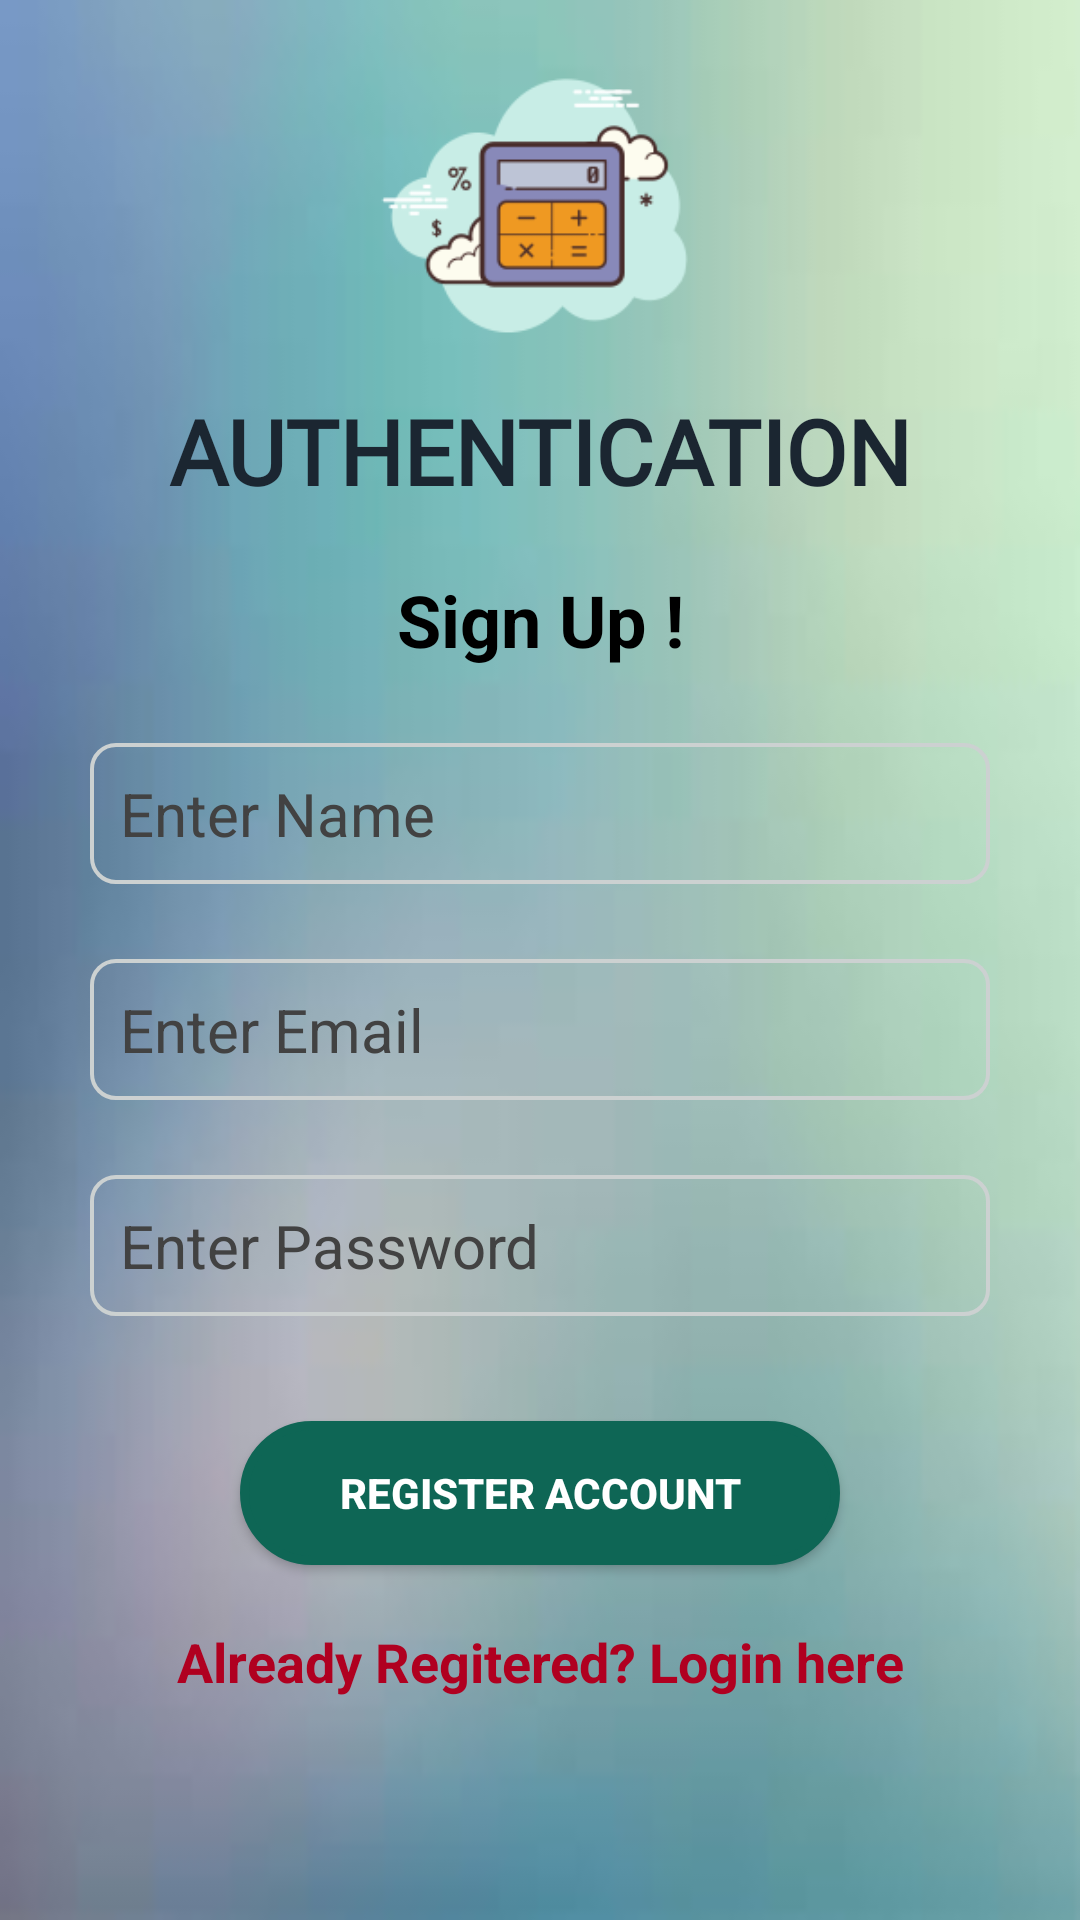

Screen size 1080 × 1920. Icon name, then its center in pixels as point (x, y):
calcapp: point (540, 210)
